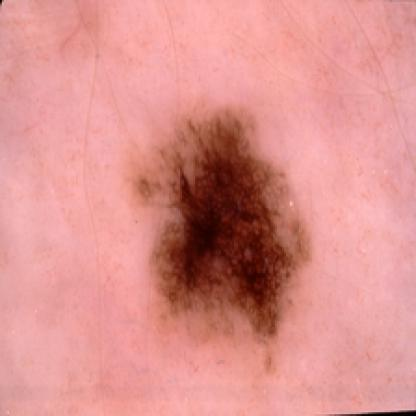malignant: (117, 108, 345, 342)
